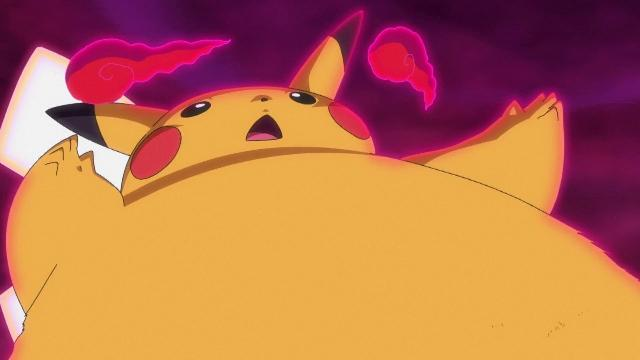pickachu: (14, 11, 564, 352)
